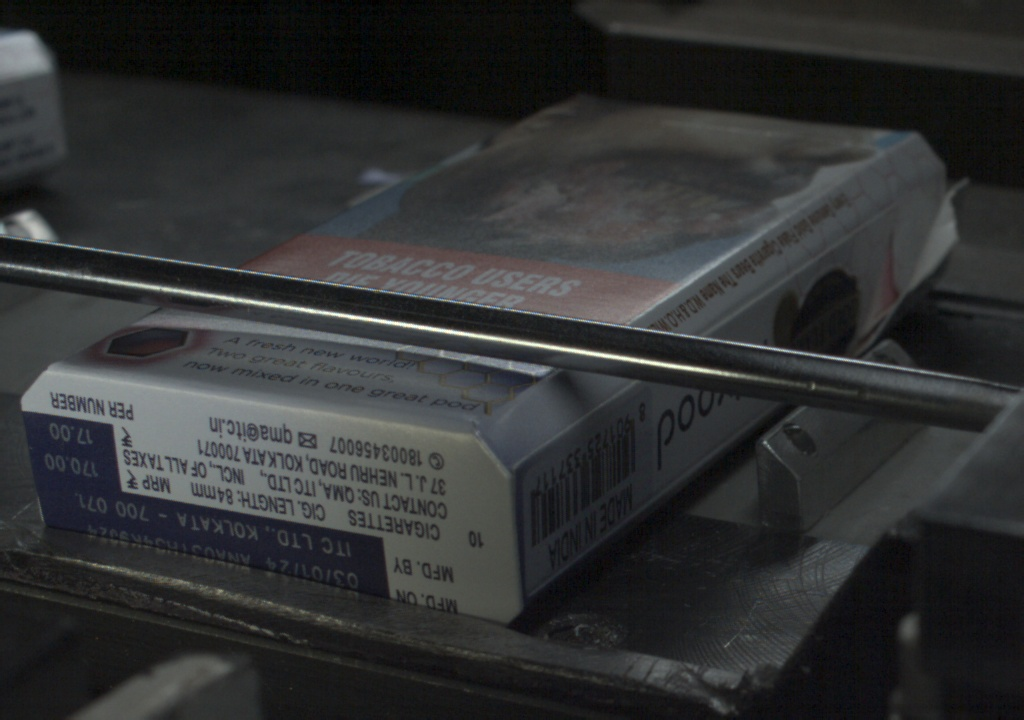g_bottom: (21, 368, 519, 634)
g_label: (31, 488, 386, 598)
g_lmiter: (700, 270, 800, 335), (794, 208, 883, 272), (514, 424, 576, 471), (577, 381, 636, 421)
ng_miter: (893, 167, 969, 296)
price: (29, 419, 118, 489)
